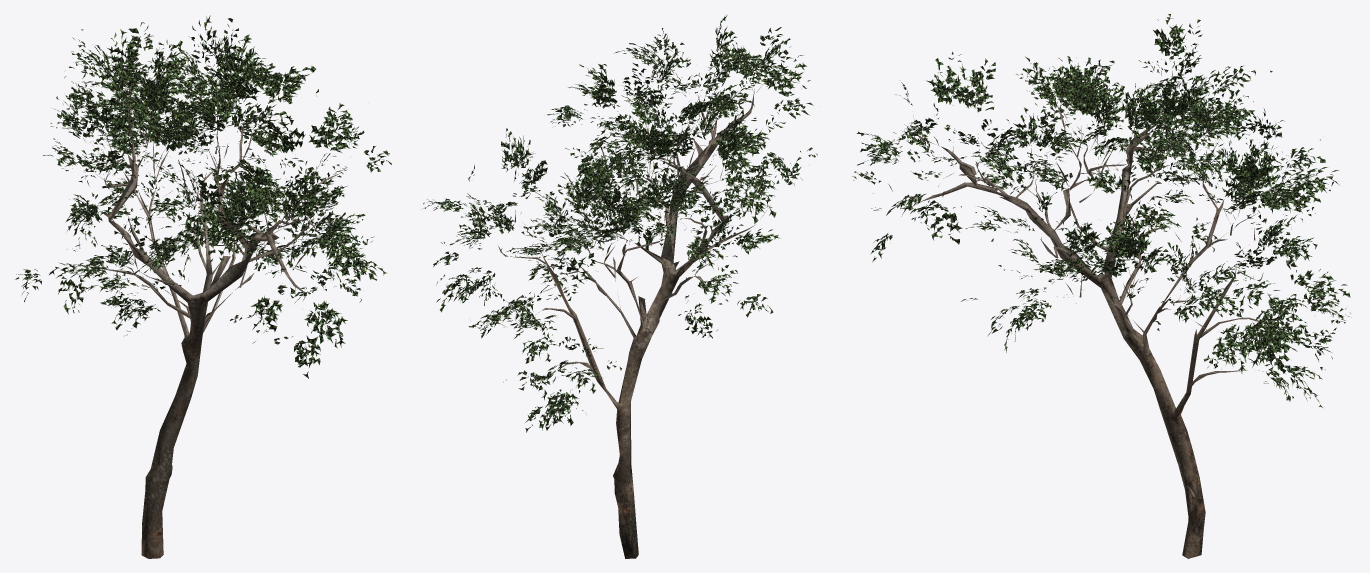
File: tree_a.gltf
3 views of the same model, side by side, from view 1: azimuth 30°, elevation 25°; view 2: azimuth 150°, elevation 25°; view 3: azimuth 270°, elevation 25° (orthographic). The views are drawn at different scales.
Parts seen in each view (by area): view 1: tree_small_02_LOD0; view 2: tree_small_02_LOD0; view 3: tree_small_02_LOD0.
Part boxes in pixels (x1,y1,x2,y2): tree_small_02_LOD0: (15, 15, 391, 558); tree_small_02_LOD0: (421, 15, 817, 558); tree_small_02_LOD0: (852, 14, 1351, 558).
Bounding box in the file's own units: 2.88 × 4.54 × 4.14.
Materials: 3 (3 with a texture image).
